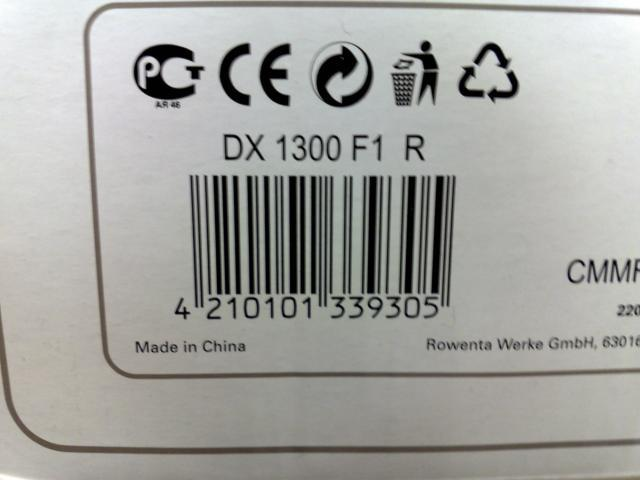Barcode: (162, 163, 476, 330)
